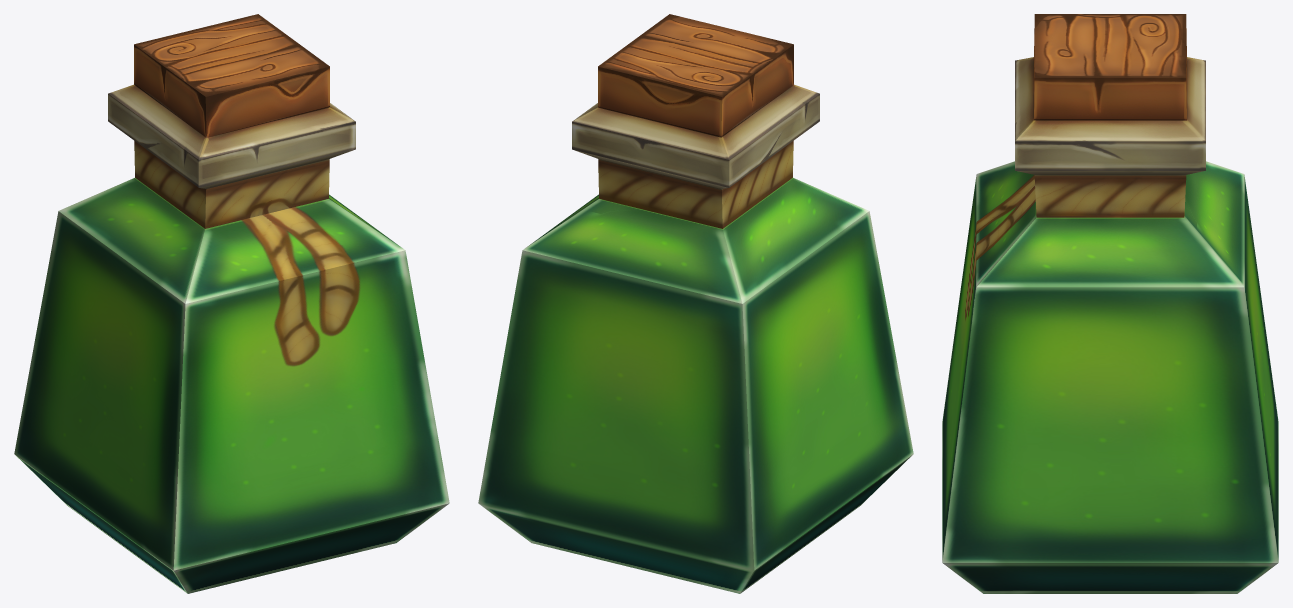
The model's file is poisonPotion.fbx.
3 views of the same model, side by side, from view 1: azimuth 30°, elevation 25°; view 2: azimuth 150°, elevation 25°; view 3: azimuth 270°, elevation 25° (orthographic). The views are drawn at different scales.
Visible parts, largest first — view 1: poison_potion_geo; view 2: poison_potion_geo; view 3: poison_potion_geo.
Part boxes in pixels (left/top/right/bottom): poison_potion_geo: left=14, top=14, right=449, bottom=593; poison_potion_geo: left=478, top=14, right=913, bottom=593; poison_potion_geo: left=942, top=14, right=1278, bottom=593.
Bounding box in the file's own units: 6.02 × 9.77 × 6.02.
1 material, 1 textured.
